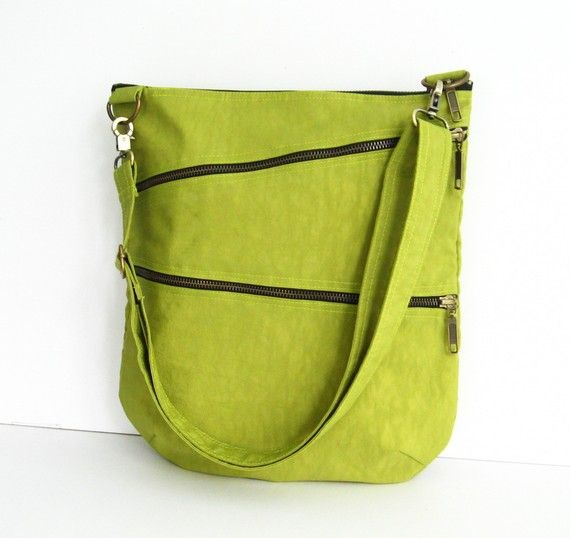nylon: (106, 70, 472, 484)
